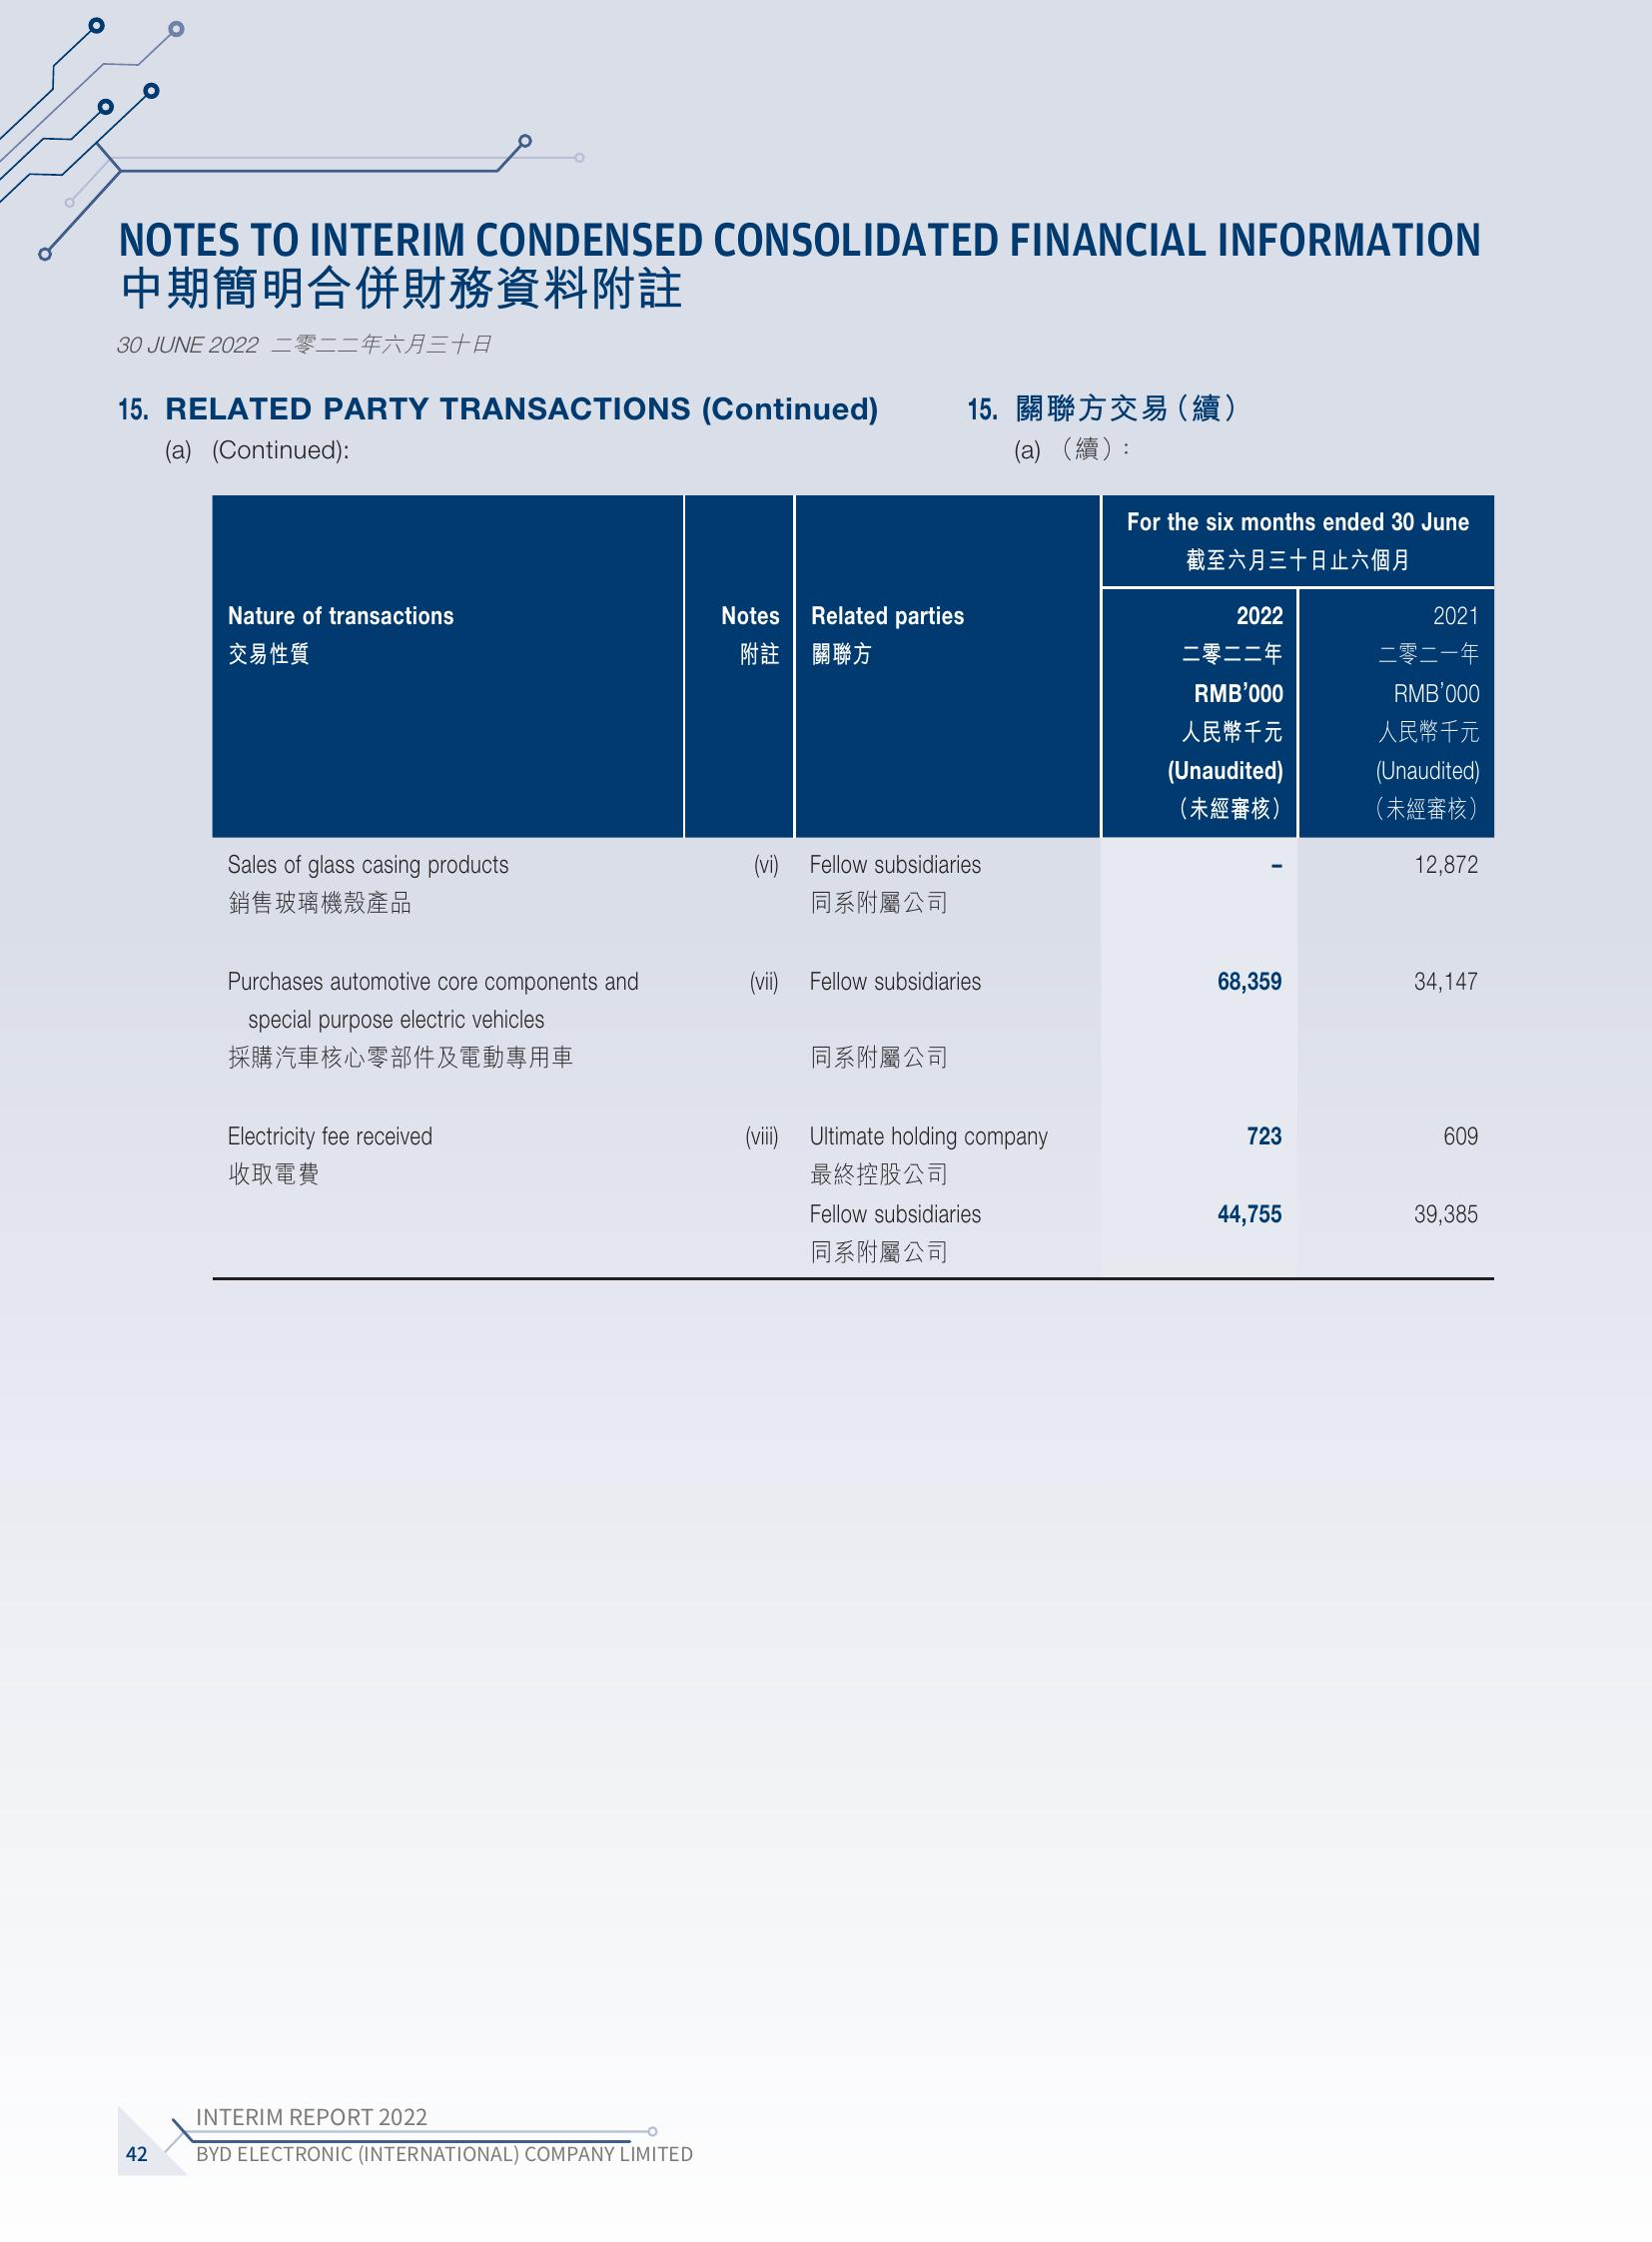Footer: (0, 2063, 1652, 2242)
Header: (0, 0, 1652, 197)
Table: (191, 463, 1516, 1356)
